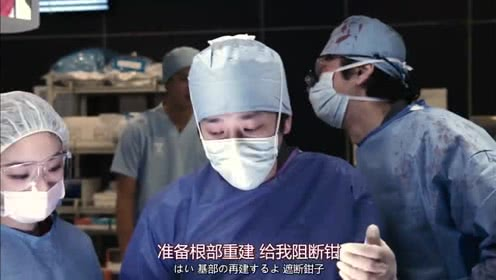mask: (201, 138, 281, 191), (308, 73, 351, 131)
